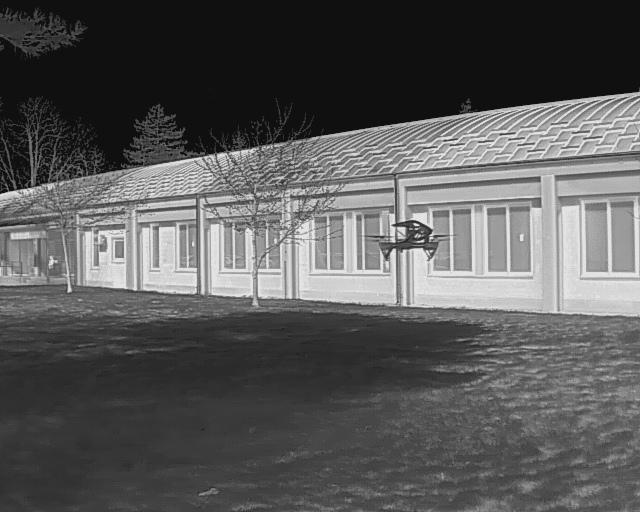drone: (357, 217, 464, 267)
